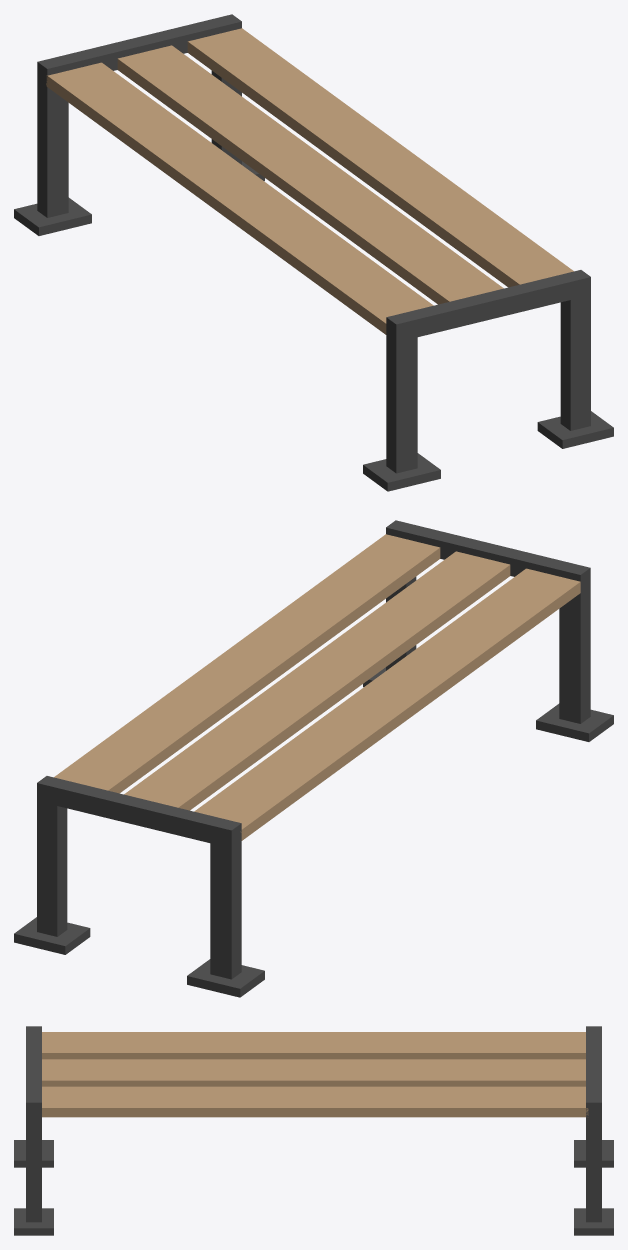
Rendered from Bench_split.glb.
The picture shows the model from 3 angles, top to bottom: view 1: azimuth 30°, elevation 25°; view 2: azimuth 150°, elevation 25°; view 3: azimuth 270°, elevation 25°; orthographic projection. The views are drawn at different scales.
Parts seen in each view (by area): view 1: BenchSeat, BenchLegs; view 2: BenchSeat, BenchLegs; view 3: BenchSeat, BenchLegs.
Part boxes in pixels (x1,y1,x2,y2): BenchSeat: (46, 28, 573, 334); BenchLegs: (14, 14, 613, 491); BenchSeat: (54, 534, 580, 840); BenchLegs: (14, 520, 613, 997); BenchSeat: (42, 1032, 588, 1117); BenchLegs: (14, 1026, 613, 1235).
Size of the model in its own units: 8.31 by 5.54 by 23.8.
